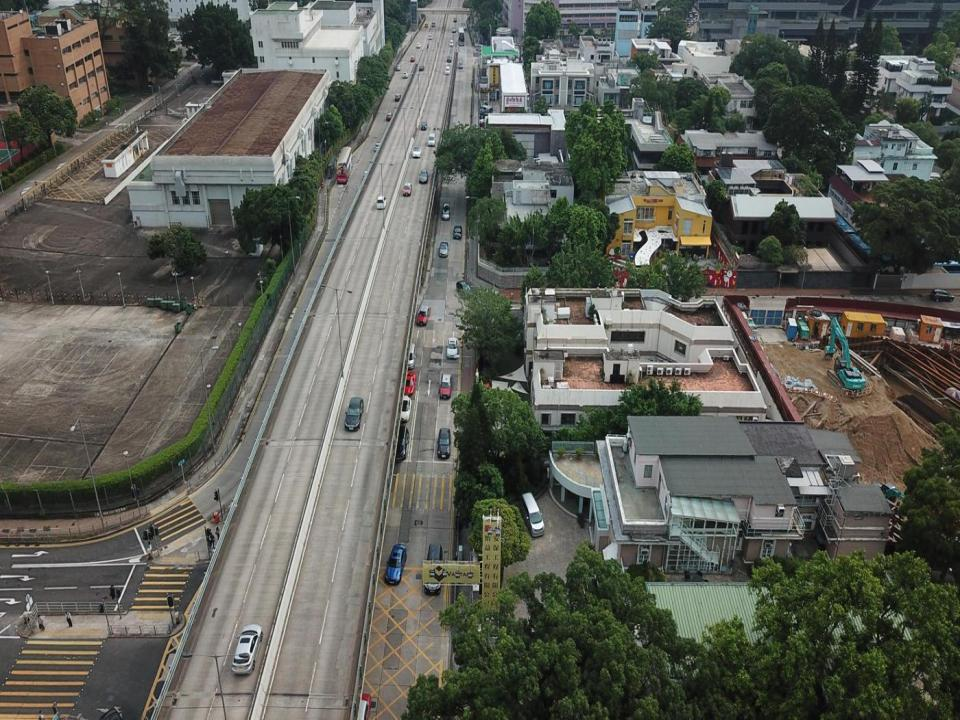bus: (336, 145, 352, 183), (458, 25, 466, 44)
car: (232, 624, 263, 675), (386, 542, 406, 586), (388, 426, 409, 461), (345, 396, 364, 430), (436, 428, 452, 459), (399, 396, 414, 420), (446, 335, 458, 362), (456, 280, 472, 300), (401, 371, 414, 393), (417, 304, 431, 324), (440, 372, 450, 397), (452, 224, 462, 241), (438, 242, 449, 256), (442, 203, 450, 221), (377, 195, 386, 209), (403, 182, 412, 195), (420, 169, 428, 183), (428, 131, 435, 147), (412, 145, 421, 157), (420, 120, 428, 132), (386, 110, 393, 121), (395, 93, 402, 102), (403, 68, 408, 80), (375, 142, 381, 150), (458, 61, 464, 68), (444, 65, 449, 73), (446, 54, 451, 62), (450, 38, 454, 48), (431, 19, 436, 27), (418, 65, 424, 71), (427, 33, 433, 39), (410, 55, 415, 62), (424, 20, 428, 28), (452, 25, 456, 32), (416, 40, 420, 47), (454, 16, 457, 22)
van: (520, 491, 544, 536), (425, 544, 443, 594), (405, 344, 415, 367)
